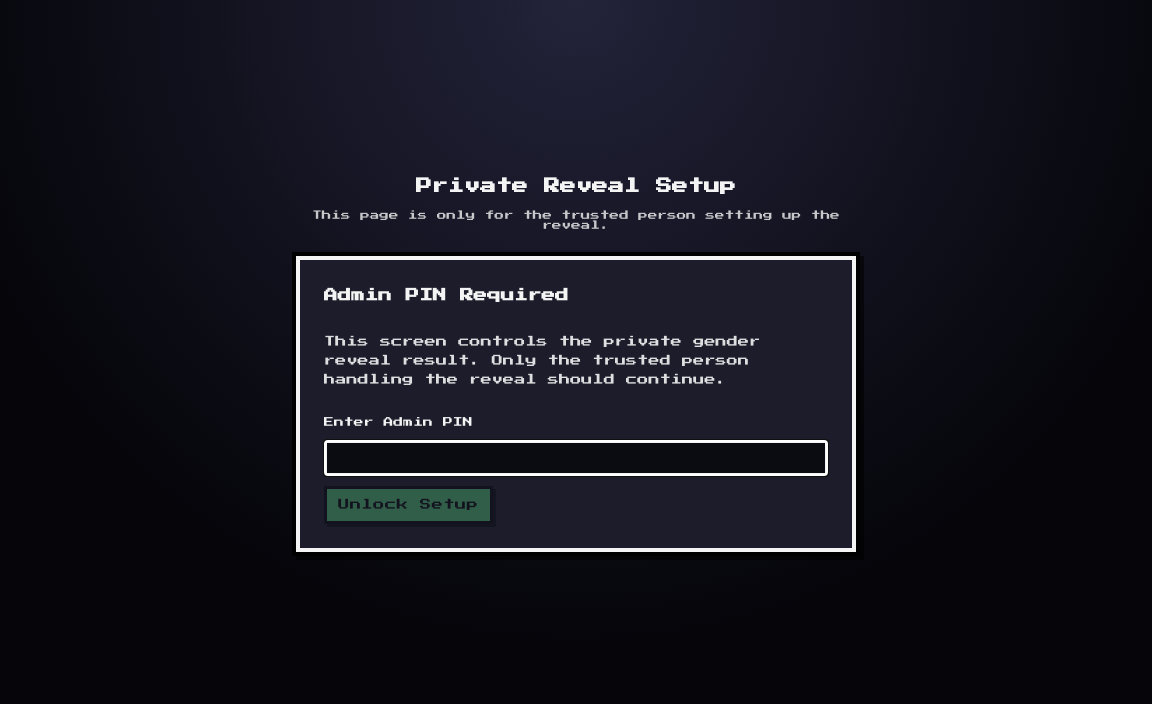
Scenario: SetupRoute › shows a warning when no reveal has been set, and locks after confirming a selection
The width and height of the screenshot is (1152, 704).
Type "test-admin-pin" into the password field labelled "Enter Admin PIN" at (576, 458), box x1=324 y1=440 x2=828 y2=476
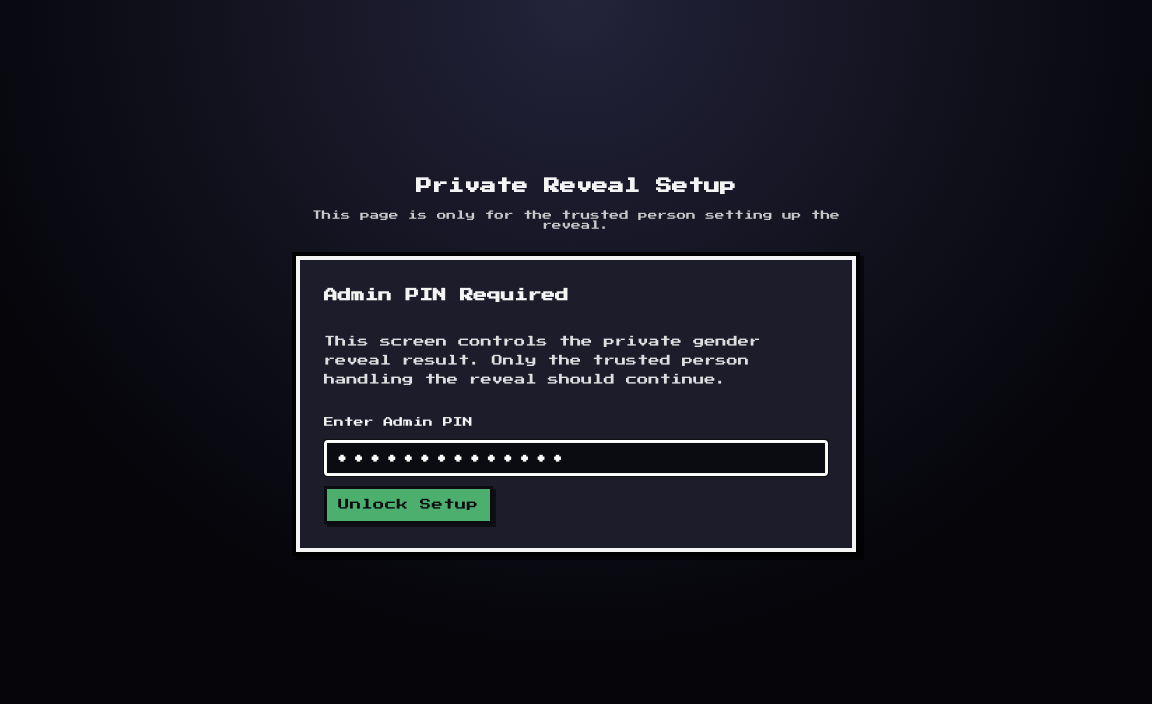
Click the button "Unlock Setup" at (408, 505), box x1=324 y1=486 x2=493 y2=524
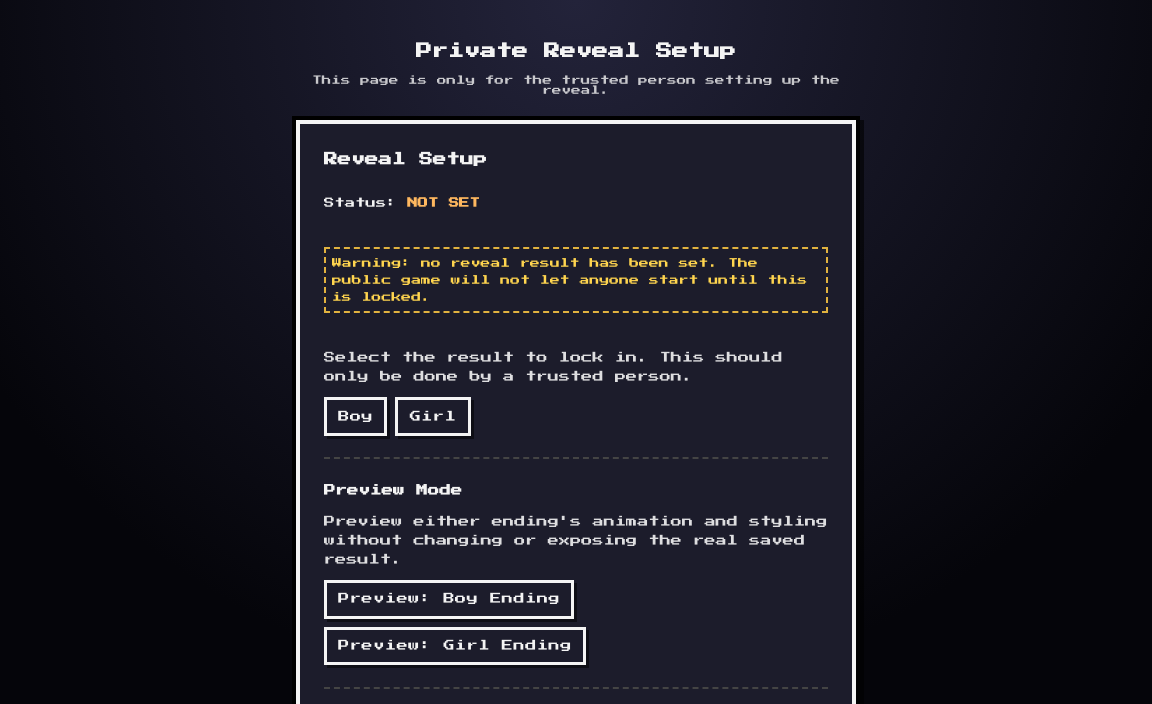
Expected: the text "no reveal result has been set" is shown, x1=332 y1=258 x2=807 y2=302
Click the button "Girl" at (433, 417), box x1=396 y1=397 x2=471 y2=436
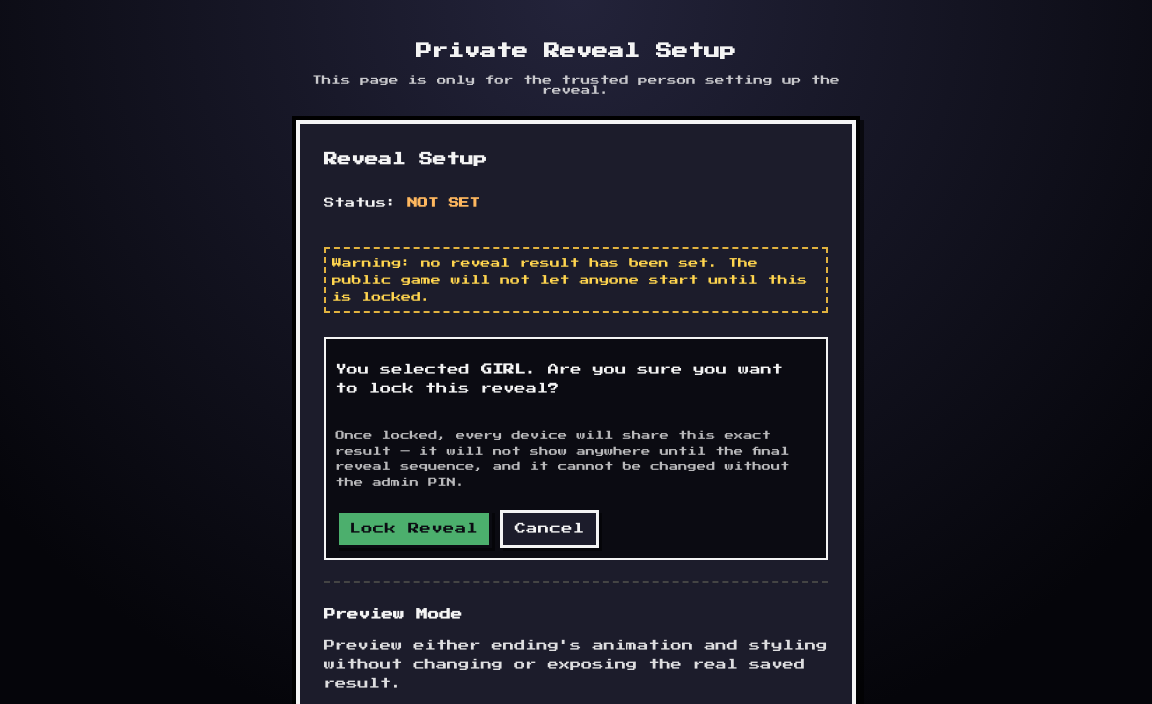
Expected: the text "You selected" shows "GIRL", x1=481 y1=364 x2=526 y2=375
Click the button "Lock Reveal" at (414, 529), box x1=336 y1=510 x2=492 y2=548
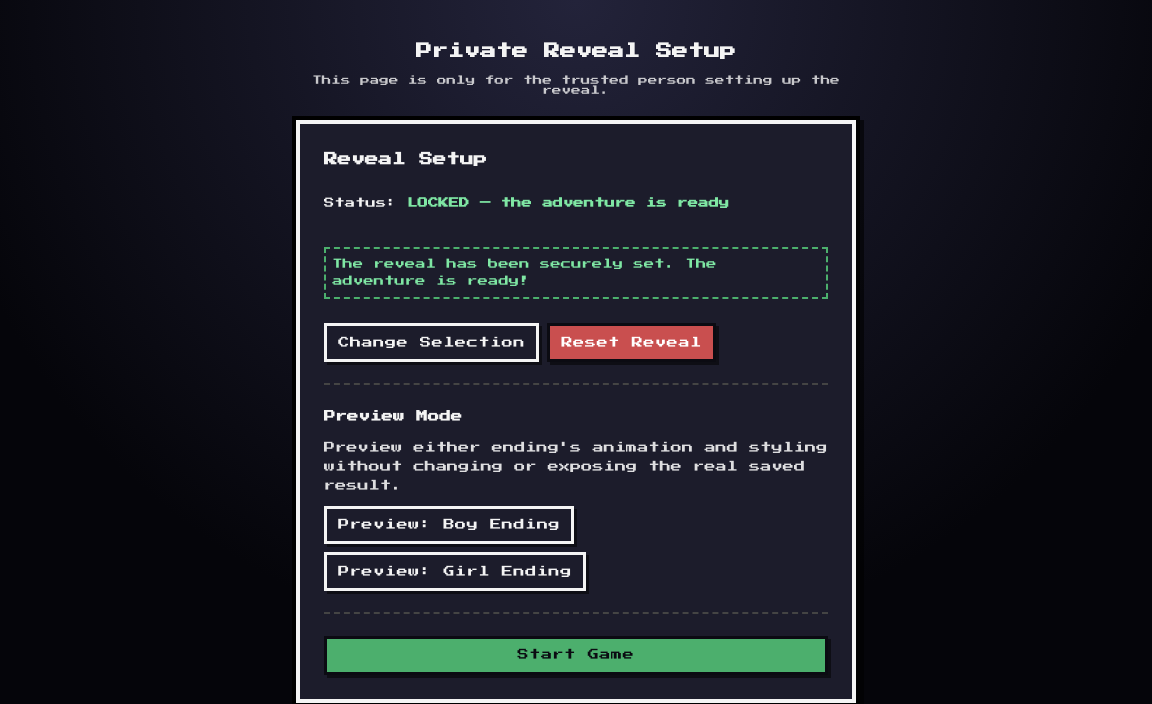
Expected: the text "LOCKED — the adventure is ready" is shown, x1=407 y1=198 x2=729 y2=208
Expected: the text "The reveal has been securely set. The adventure is ready!" is shown, x1=324 y1=248 x2=828 y2=299
Expected: the text "You selected" is gone
